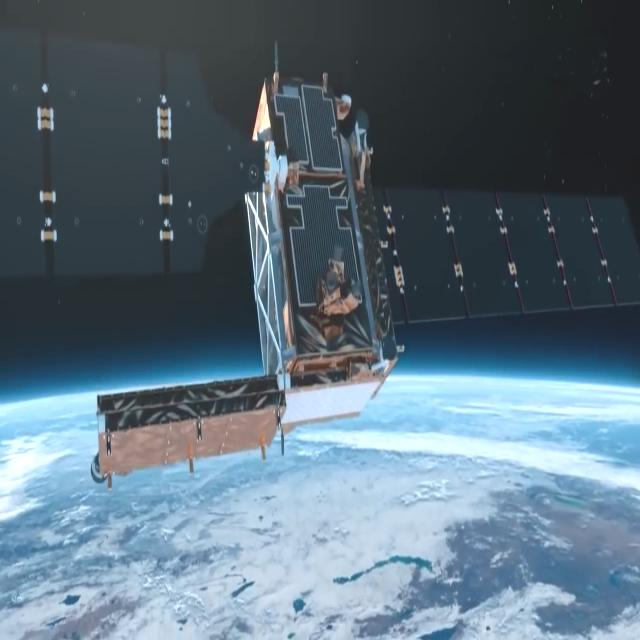satellite: (0, 21, 640, 517)
